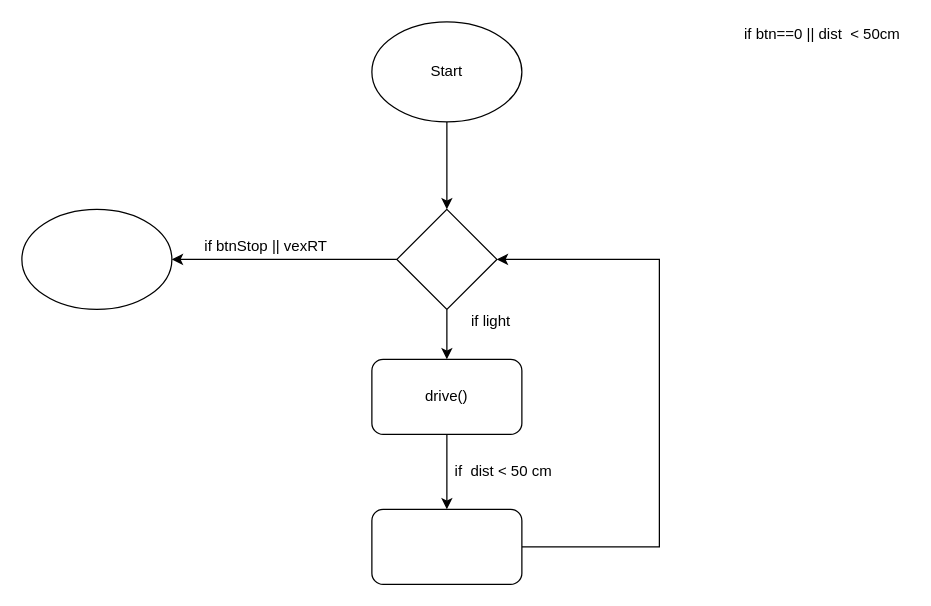
This 931x606 diagram has some shape labels left out. The centre of each missing label's shape, as x and y in pixels:
Stop: point 96,258
Trun(): point 446,546
